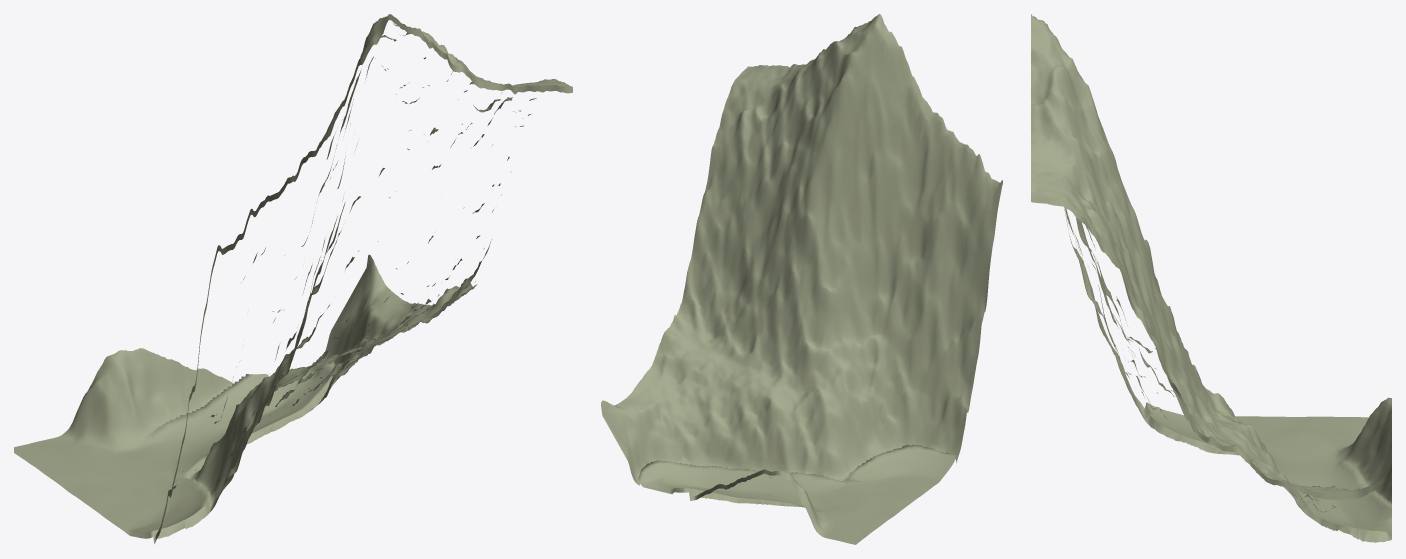
File: terrain_r0_c2_lod0.glb
The picture shows the model from 3 angles, left to right: view 1: azimuth 30°, elevation 25°; view 2: azimuth 150°, elevation 25°; view 3: azimuth 270°, elevation 25°; orthographic projection. The views are drawn at different scales.
Parts seen in each view (by area): view 1: terrain_r0_c2; view 2: terrain_r0_c2; view 3: terrain_r0_c2.
Boxes of the visible parts, bbox=[...] form: terrain_r0_c2: bbox=[14, 14, 572, 544]; terrain_r0_c2: bbox=[601, 14, 1002, 544]; terrain_r0_c2: bbox=[1031, 14, 1391, 542].
Bounding box in the file's own units: 50 × 73.85 × 50.
